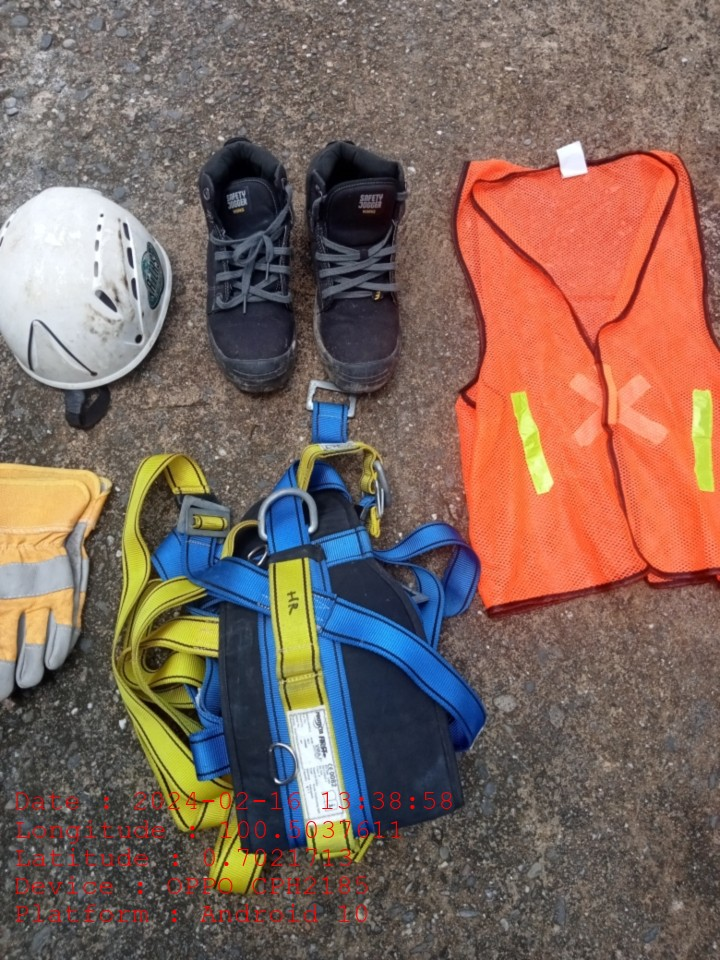HELM: (1, 186, 176, 392)
ROMPI: (452, 150, 720, 612)
SEPATU: (200, 140, 410, 393)
